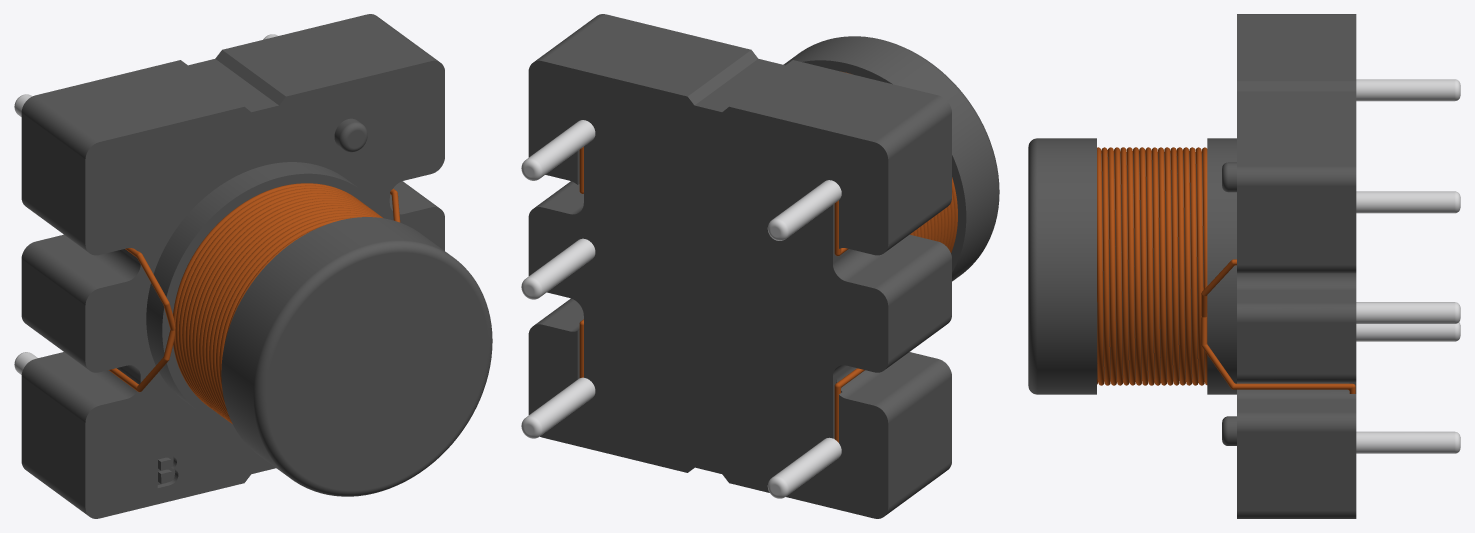
Rendered from COIL_L1.obj.
The picture shows the model from 3 angles, left to right: view 1: azimuth 30°, elevation 25°; view 2: azimuth 150°, elevation 25°; view 3: azimuth 270°, elevation 25°; orthographic projection. The views are drawn at different scales.
Visible parts, largest first — view 1: PlasticBody, Coil Outter, Wire Pin1 Coil, Wire Pin2 Coil; view 2: PlasticBody, Pin 4, Pin 5, Pin 1, Pin 2, Pin 3, Coil Outter; view 3: PlasticBody, Coil Outter, Pin 3, Pin 2, Pin 5, Pin 4, Pin 1, Wire Pin5 Coil.
Part boxes in pixels (x1,y1,x2,y2): PlasticBody: (21,14,492,518); Coil Outter: (173,183,383,423); Wire Pin1 Coil: (108,330,175,392); Wire Pin2 Coil: (125,248,175,330); PlasticBody: (528,14,999,518); Pin 4: (521,238,595,299); Pin 5: (521,377,595,438); Pin 1: (767,437,841,498); Pin 2: (767,180,841,240); Pin 3: (521,120,595,180); Coil Outter: (843,72,957,252); PlasticBody: (1028,14,1356,518); Coil Outter: (1097,147,1207,385); Pin 3: (1356,191,1460,213); Pin 2: (1356,79,1460,101); Pin 5: (1356,431,1460,453); Pin 4: (1356,302,1460,323); Pin 1: (1356,322,1460,341); Wire Pin5 Coil: (1201,287,1355,393).
Size of the model in its own units: 13 by 13 by 14.5.
